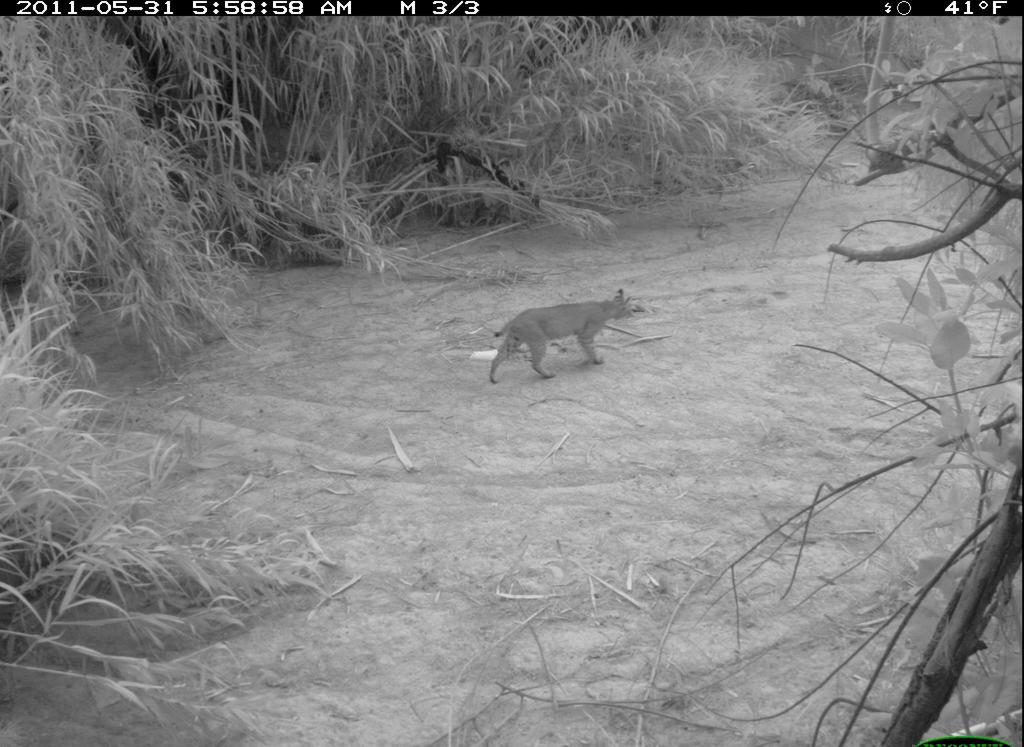bobcat: (483, 277, 646, 406)
